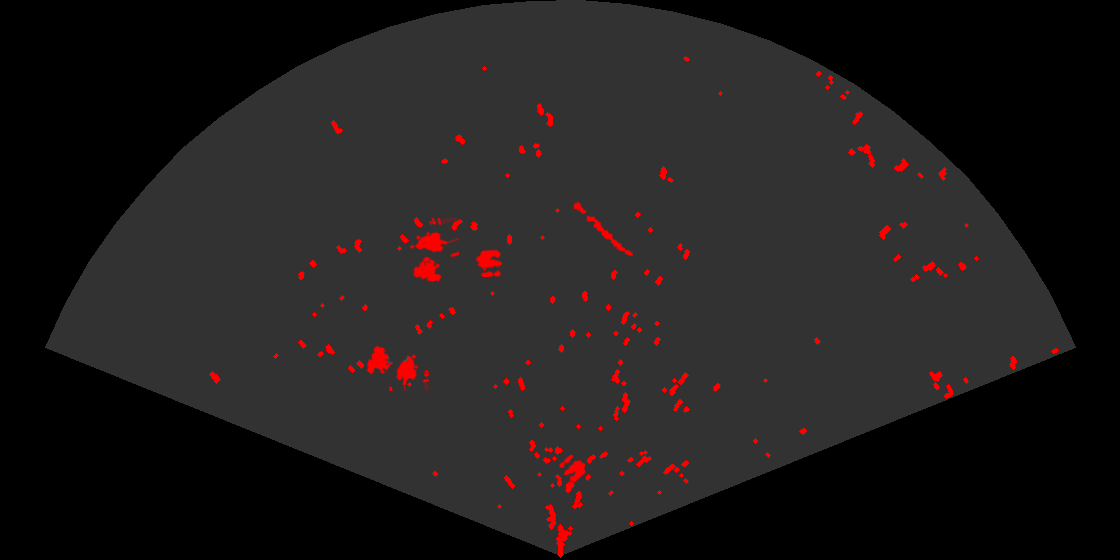ball: (474, 248, 505, 279), (558, 453, 587, 483)
cage: (408, 218, 459, 284), (365, 344, 429, 391)
chain: (565, 196, 635, 258)
